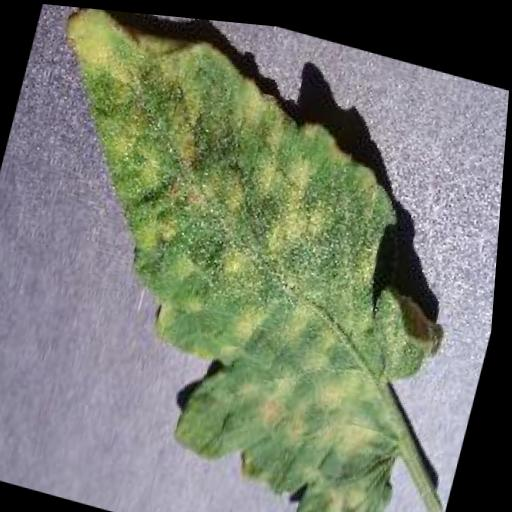Leaf Mold: (0, 0, 502, 512)
